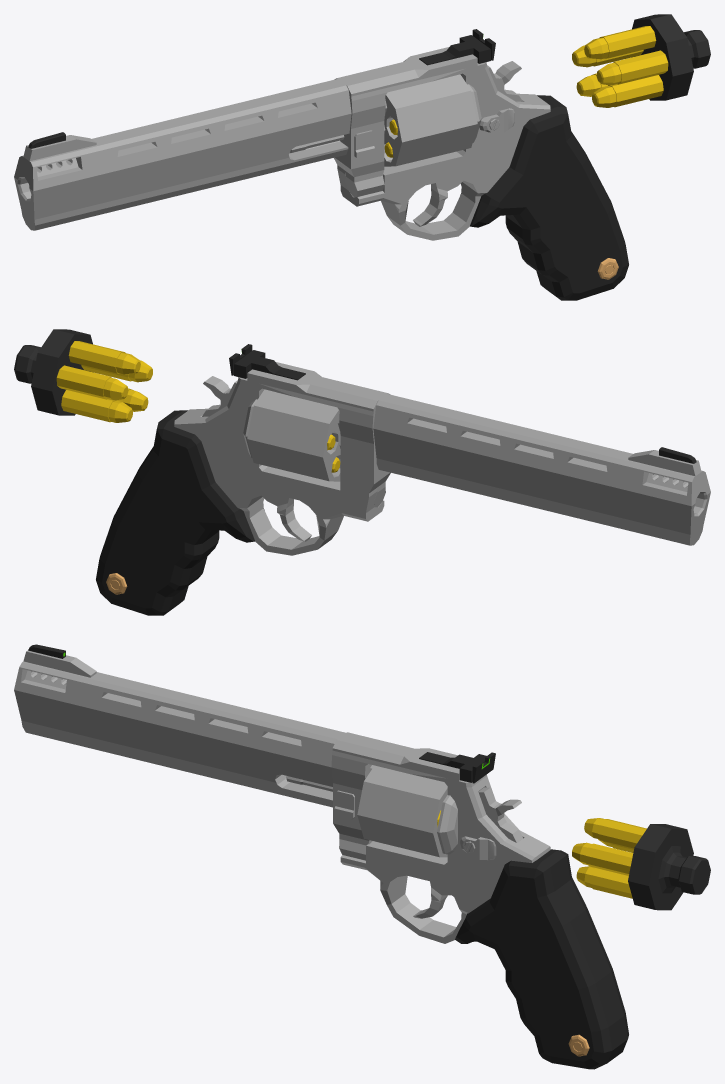
Rendered from low_poly_taurus_raging_bull_454_casull.glb.
The picture shows the model from 3 angles, top to bottom: view 1: azimuth 30°, elevation 25°; view 2: azimuth 150°, elevation 25°; view 3: azimuth 330°, elevation 25°; orthographic projection.
Parts seen in each view (by area): view 1: Cube.001, Cube.005, Cylinder.001, Cylinder.007, Cylinder.003, Cylinder; view 2: Cube.001, Cube.005, Cylinder.001, Cylinder.007, Cylinder.003, Cylinder; view 3: Cube.001, Cube.005, Cylinder.001, Cylinder.003, Cylinder.007, Cylinder.
Boxes of the visible parts, x1,y1,x2,y2 form: Cube.001: (14, 47, 550, 240); Cube.005: (28, 29, 628, 300); Cylinder.001: (341, 74, 477, 196); Cylinder.007: (572, 26, 668, 107); Cylinder.003: (632, 14, 710, 100); Cylinder: (487, 61, 522, 101); Cube.001: (174, 362, 710, 555); Cube.005: (96, 344, 696, 615); Cylinder.001: (247, 389, 390, 507); Cylinder.007: (56, 341, 152, 422); Cylinder.003: (14, 329, 92, 415); Cylinder: (202, 376, 237, 416); Cube.001: (14, 650, 550, 943); Cube.005: (28, 644, 628, 1069); Cylinder.001: (333, 765, 447, 860); Cylinder.003: (628, 824, 710, 910); Cylinder.007: (572, 818, 646, 898); Cylinder: (478, 787, 523, 842).
Bounding box in the file's own units: 5.65 × 2.26 × 0.6487.
